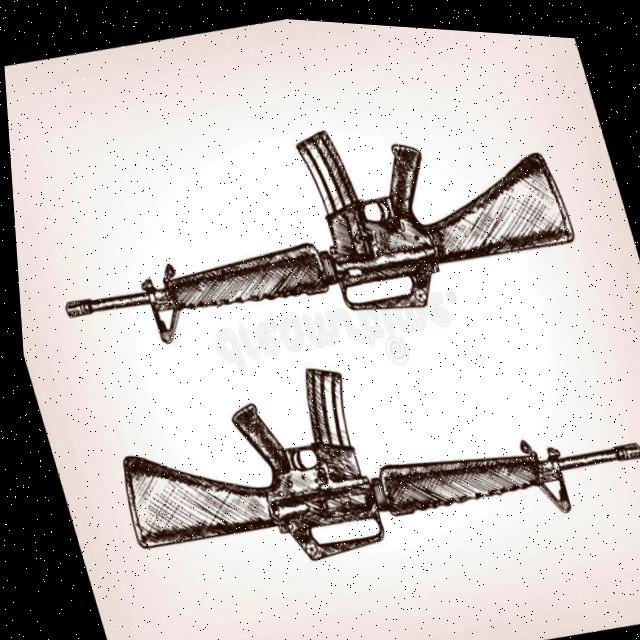firearm: (16, 57, 597, 400), (80, 277, 640, 625)
